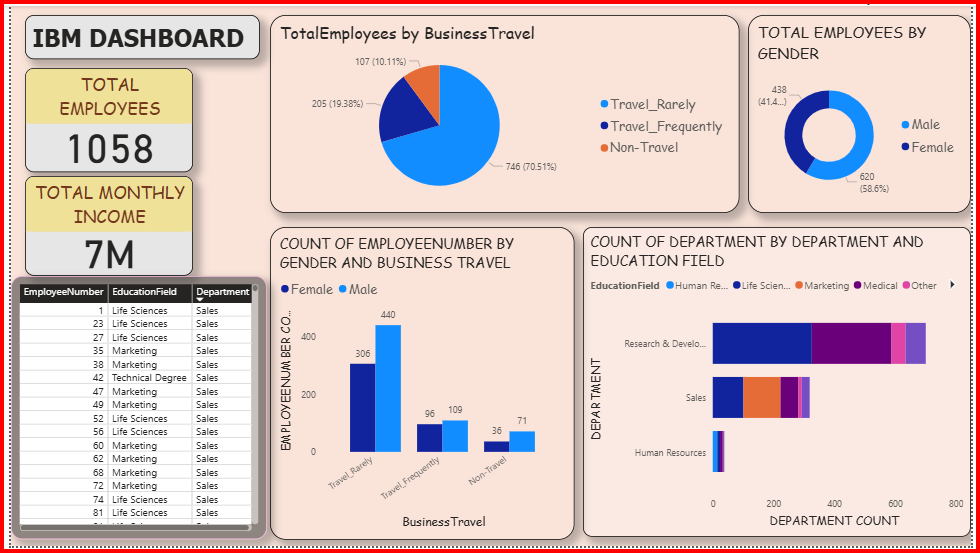

Layout of this report page (visuals, bound fields, positions):
{"tool":"powerbi","page":{"name":"Page 1","canvas":[1280,720],"ordinal":0},"visuals":[{"type":"textbox","box":[18.6,11.4,312.9,58.6],"z":0},{"type":"card","title":"TOTAL EMPLOYEES","fields":{"Values":["Employee Data.TotalEmployees"]},"box":[18.6,82.9,224.3,138.6],"z":1000},{"type":"card","title":"TOTAL MONTHLY INCOME","fields":{"Values":["Employee Data.TotalIncome"]},"box":[18.6,227.1,224.3,132.9],"z":2000},{"type":"donutChart","title":"TOTAL EMPLOYEES BY GENDER","fields":{"Category":["Employee Data.Gender"],"Y":["Employee Data.TotalEmployees"]},"box":[982.9,11.4,297.1,264.3],"z":3000},{"type":"tableEx","fields":{"Values":["Employee Data.EmployeeNumber","Employee Data.EducationField","Employee Data.Department"]},"box":[0,360,341.4,351.4],"z":4000},{"type":"barChart","title":"COUNT OF DEPARTMENT BY DEPARTMENT AND EDUCATION FIELD","fields":{"Category":["Employee Data.Department"],"Y":["CountNonNull(Employee Data.Department)"],"Series":["Employee Data.EducationField"]},"box":[762.9,294.3,517.1,412.9],"z":5000},{"type":"pieChart","fields":{"Category":["Employee Data.BusinessTravel"],"Y":["Employee Data.TotalEmployees"]},"box":[345.7,11.4,625.7,264.3],"z":6000},{"type":"clusteredColumnChart","title":"COUNT OF EMPLOYEENUMBER BY GENDER AND BUSINESS TRAVEL","fields":{"Category":["Employee Data.BusinessTravel"],"Y":["Count(Employee Data.EmployeeNumber)"],"Series":["Employee Data.Gender"]},"box":[345.7,294.3,405.7,417.1],"z":7000}]}

Visuals, with their boxes in screenshot pixels (x1, y1, x2, y2), scaled from the page's 1280x720 canvas onto the 980x553 screenshot:
textbox: detection(14, 9, 254, 54)
"TOTAL EMPLOYEES" card: detection(14, 64, 186, 170)
"TOTAL MONTHLY INCOME" card: detection(14, 174, 186, 276)
"TOTAL EMPLOYEES BY GENDER" donutChart: detection(753, 9, 979, 212)
tableEx - Employee Data.EmployeeNumber x Employee Data.EducationField: detection(0, 276, 261, 546)
"COUNT OF DEPARTMENT BY DEPARTMENT AND EDUCATION FIELD" barChart: detection(584, 226, 979, 543)
pieChart - Employee Data.BusinessTravel x Employee Data.TotalEmployees: detection(265, 9, 744, 212)
"COUNT OF EMPLOYEENUMBER BY GENDER AND BUSINESS TRAVEL" clusteredColumnChart: detection(265, 226, 575, 546)
